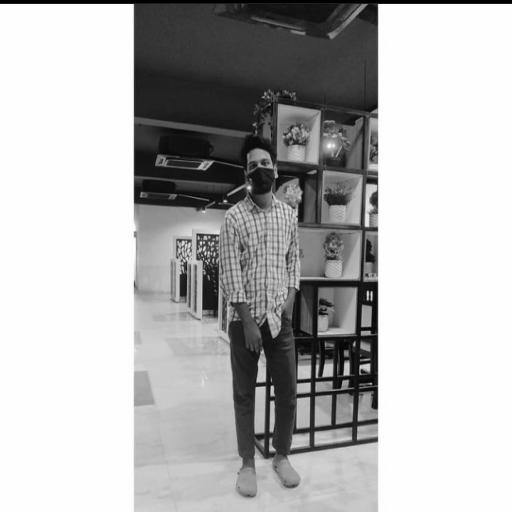mask: (244, 149, 274, 195)
